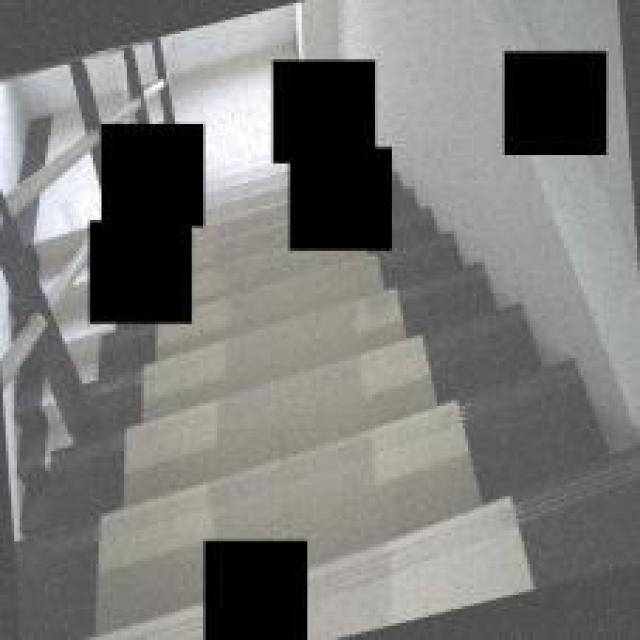downstair: (201, 252, 511, 537)
